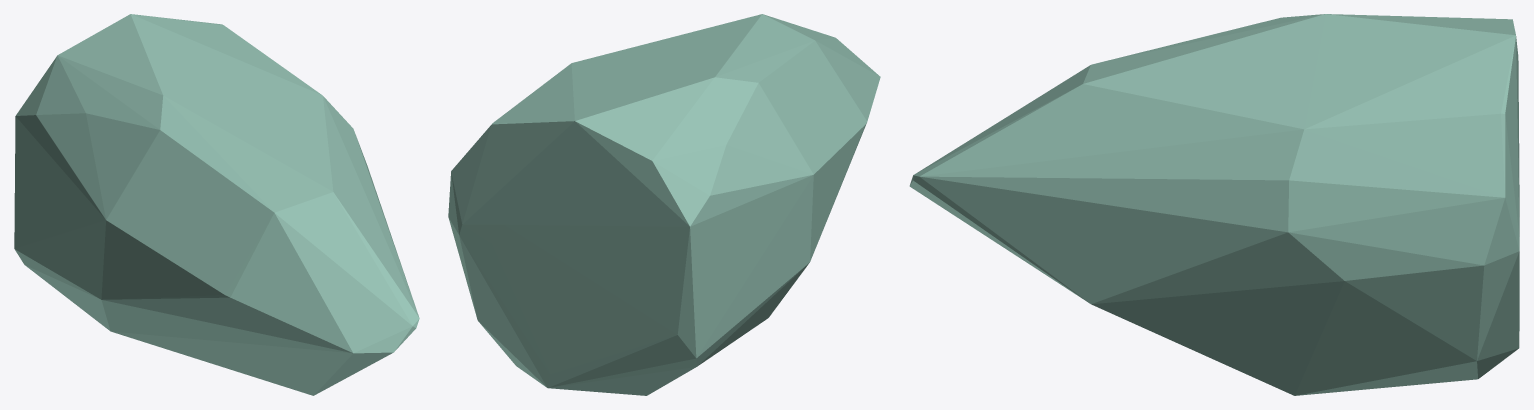
File: paint_container_bottle_yellowLight_a02.glb
The picture shows the model from 3 angles, left to right: view 1: azimuth 30°, elevation 25°; view 2: azimuth 150°, elevation 25°; view 3: azimuth 270°, elevation 25°; orthographic projection. The views are drawn at different scales.
Parts seen in each view (by area): view 1: geometry_0; view 2: geometry_0; view 3: geometry_0.
Boxes of the visible parts, x1,y1,x2,y2 form: geometry_0: (14,14,419,395); geometry_0: (448,14,880,395); geometry_0: (909,14,1519,395).
Size of the model in its own units: 0.2729 by 0.2718 by 0.48.
